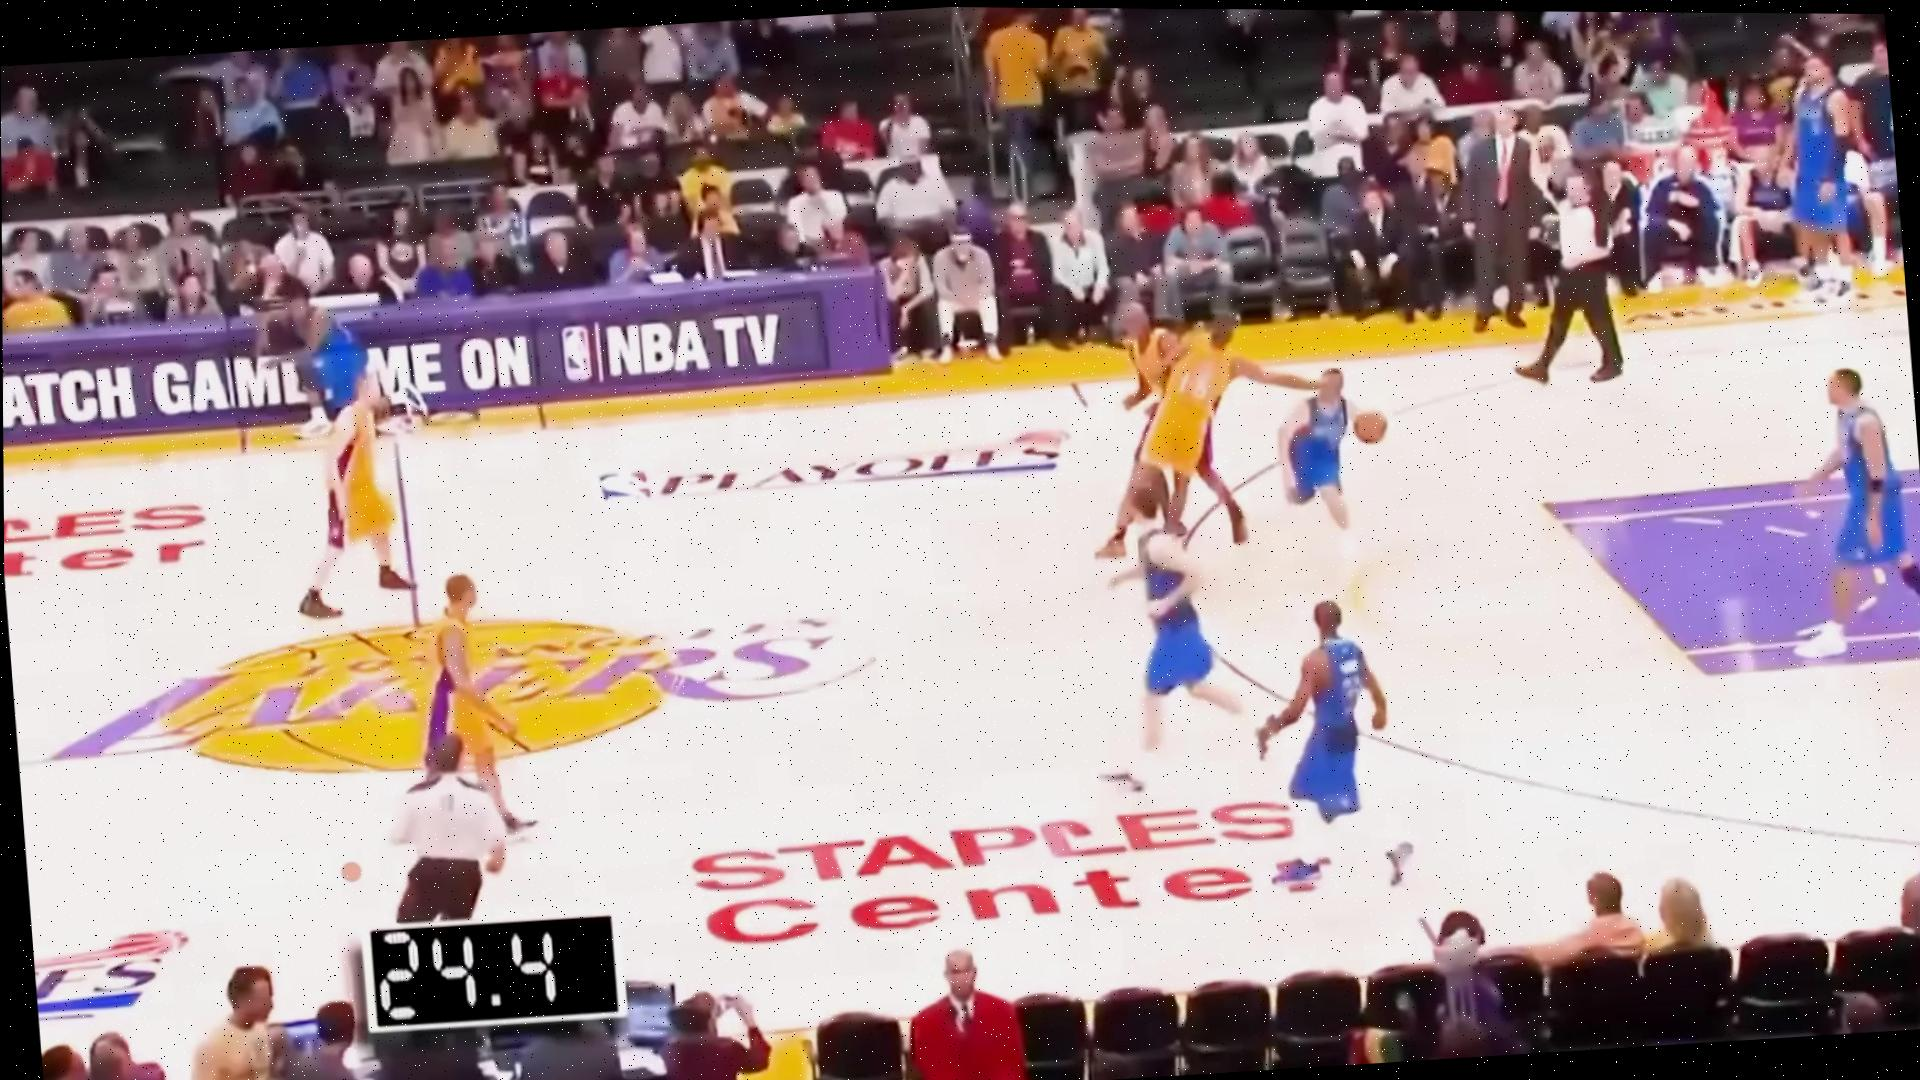no_foul: (1102, 299, 1379, 589)
